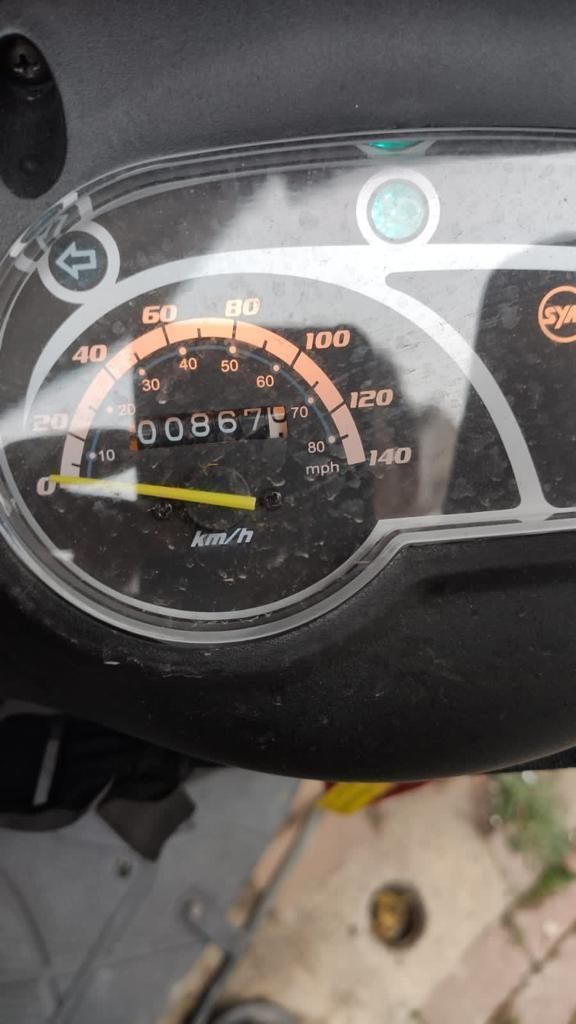0: (163, 413, 186, 446), (136, 418, 158, 445), (267, 401, 288, 427), (127, 403, 136, 415)
6: (217, 408, 237, 435)
7: (242, 404, 264, 433), (290, 405, 298, 420)
8: (190, 409, 211, 440)
odometer: (128, 402, 299, 452)
